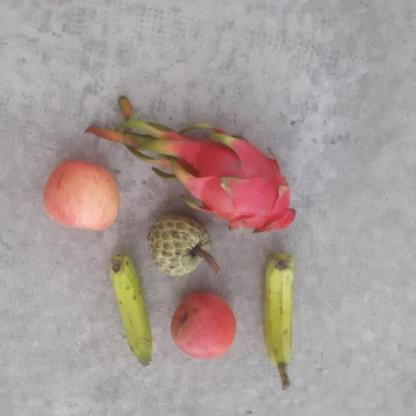annona: (144, 210, 209, 279)
apple: (45, 155, 122, 234), (170, 290, 240, 362)
banana: (109, 255, 155, 375), (251, 258, 303, 364)
pitaya: (180, 139, 293, 234)
